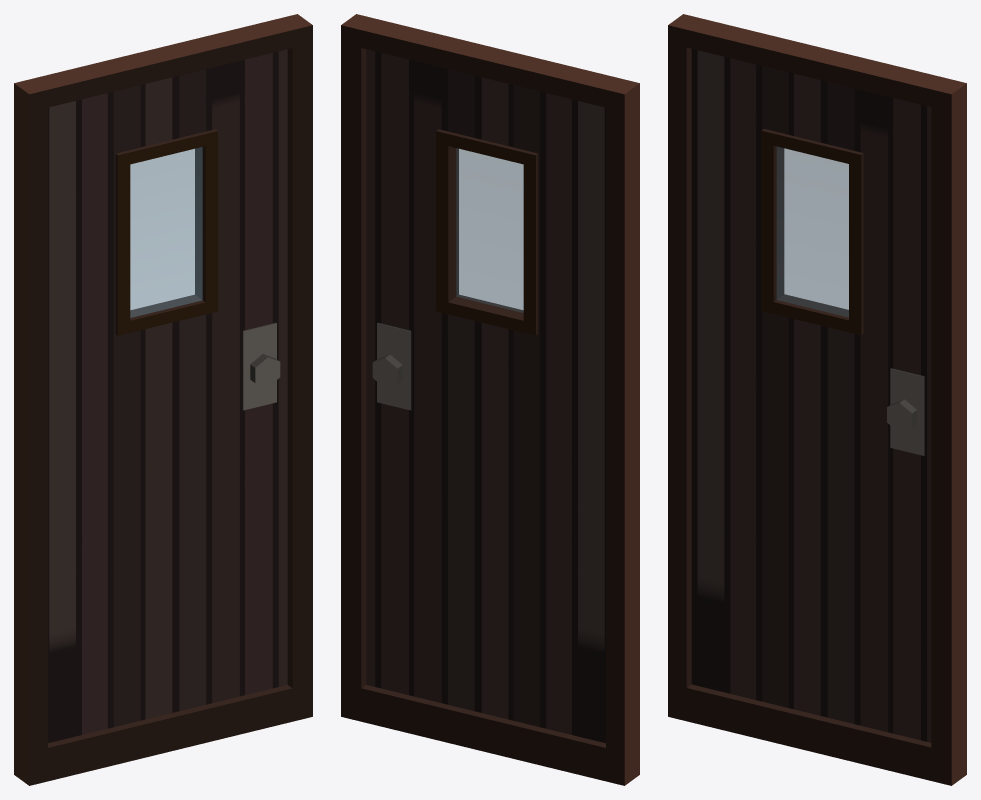
Rendered from Door 5.glb.
3 renders of one model, left to right at view 1: azimuth 30°, elevation 25°; view 2: azimuth 150°, elevation 25°; view 3: azimuth 330°, elevation 25°, orthographic.
Visible parts, largest first — view 1: Door 5A; view 2: Door 5A; view 3: Door 5A.
Part boxes in pixels (x1,y1,x2,y2): Door 5A: (14, 14, 312, 785); Door 5A: (341, 14, 639, 785); Door 5A: (668, 14, 966, 785).
Size of what is drawn, in the model's own units: 0.9761 by 2.27 by 0.1391.
3 materials, 3 textured.
